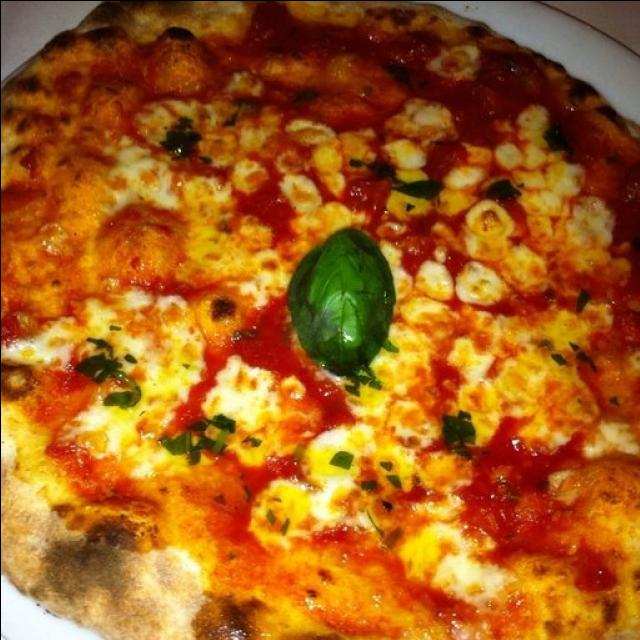basil: (245, 263, 354, 414)
pizza: (0, 0, 640, 640)
